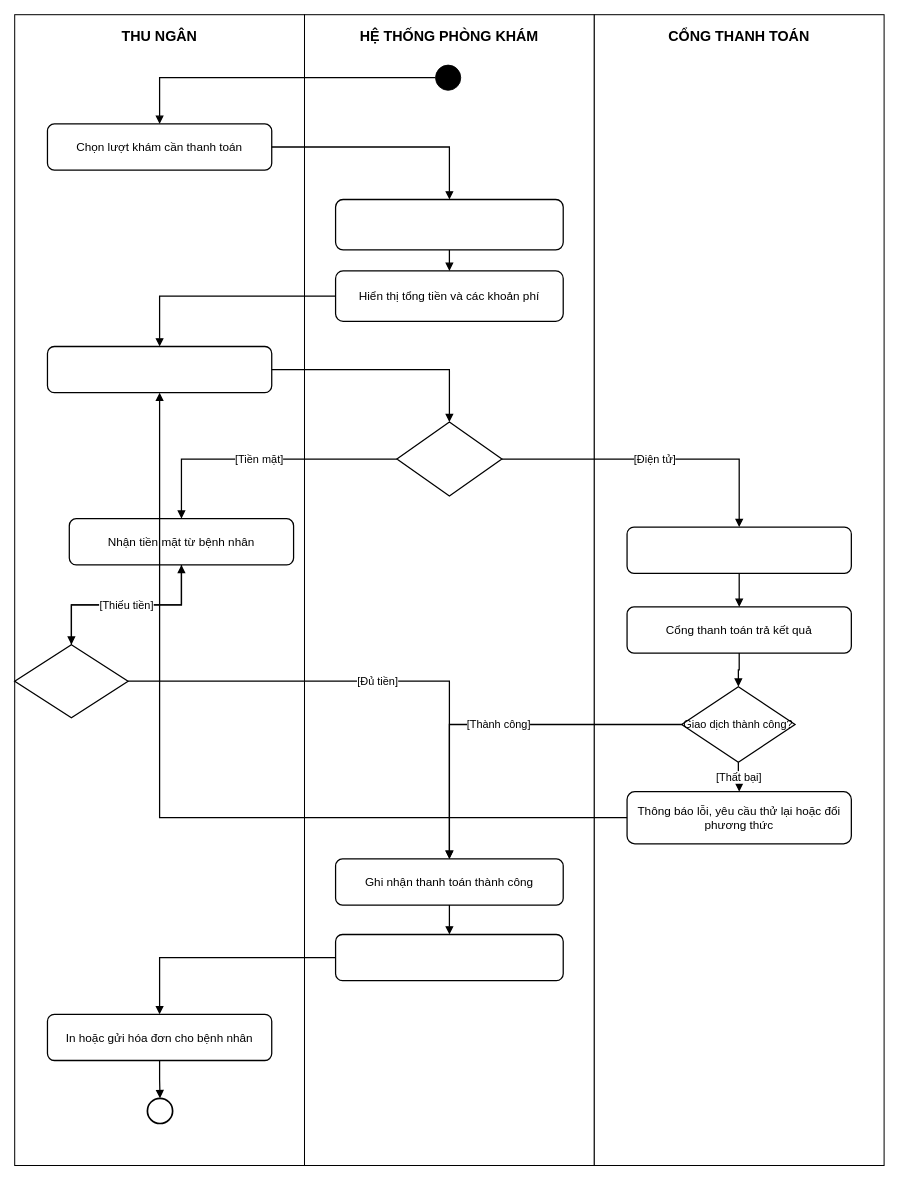
This 900x1181 diagram has some shape labels left out. The shapes that lost their labels are listed below. From the top down, each one's centre as x and y in pixels, then its label:
the point at 449,224: Tổng hợp tiền khám, xét nghiệm và thuốc
the point at 159,369: Chọn phương thức thanh toán
the point at 449,458: Tiền mặt hay điện tử?
the point at 739,550: Tạo yêu cầu thanh toán điện tử
the point at 71,681: Tiền nhận đủ?
the point at 449,957: Tạo và lưu hóa đơn
